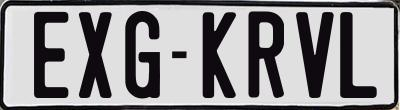E: (31, 11, 70, 100)
G: (122, 10, 163, 98)
K: (202, 12, 238, 101)
L: (340, 11, 378, 97)
R: (246, 9, 287, 101)
V: (296, 12, 338, 104)
X: (78, 10, 112, 99)
